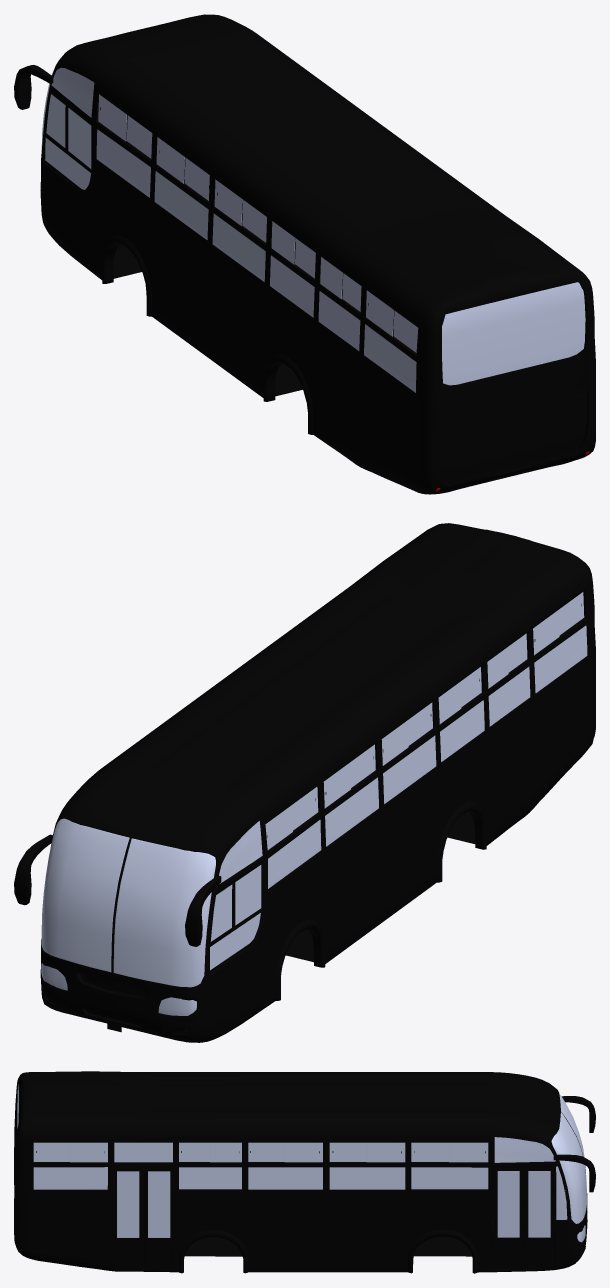
The model's file is Bus_Low.fbx.
3 renders of one model, top to bottom at view 1: azimuth 30°, elevation 25°; view 2: azimuth 150°, elevation 25°; view 3: azimuth 270°, elevation 25°, orthographic. The views are drawn at different scales.
Visible parts, largest first — view 1: Carrocería, PT, VL_6, VL_9, VL_3, VL_16, VL_12, VL_19, VL_2, FG_1, VC_2, VC_3 (+12 smaller); view 2: Carrocería, PB_2, PB_1, Retrovisor, VL_6, VL_9, VL_16, VL_3, VL_12, VL_19, VL_2, VC_2 (+11 smaller); view 3: Carrocería, PB_1, VL_3, VL_6, VL_9, VL_16, P_1, P_2, VP_1, VP_2, VP_3, VP_4 (+18 smaller).
Part boxes in pixels (<box>): Carrocería: <box>40,14,595,494</box>; PT: <box>442,282,585,385</box>; VL_6: <box>154,171,208,239</box>; VL_9: <box>212,213,265,281</box>; VL_3: <box>96,129,150,197</box>; VL_16: <box>364,324,416,392</box>; VL_12: <box>270,255,314,317</box>; VL_19: <box>318,291,360,350</box>; VL_2: <box>51,67,94,117</box>; FG_1: <box>442,388,587,483</box>; VC_2: <box>68,108,91,168</box>; VC_3: <box>45,138,90,189</box>; Carrocería: <box>40,523,595,1042</box>; PB_2: <box>113,838,215,987</box>; PB_1: <box>41,818,129,972</box>; Retrovisor: <box>14,834,221,946</box>; VL_6: <box>325,777,378,846</box>; VL_9: <box>383,735,436,803</box>; VL_16: <box>534,625,587,692</box>; VL_3: <box>268,820,321,888</box>; VL_12: <box>440,700,484,761</box>; VL_19: <box>488,666,530,726</box>; VL_2: <box>219,821,262,883</box>; VC_2: <box>235,865,261,925</box>; Carrocería: <box>14,1071,587,1273</box>; PB_1: <box>551,1112,586,1223</box>; VL_3: <box>411,1167,488,1189</box>; VL_6: <box>329,1167,405,1189</box>; VL_9: <box>248,1167,322,1189</box>; VL_16: <box>33,1167,107,1189</box>; P_1: <box>525,1166,553,1268</box>; P_2: <box>494,1167,522,1268</box>; VP_1: <box>528,1171,550,1237</box>; VP_2: <box>497,1171,519,1237</box>; VP_3: <box>148,1171,170,1237</box>; VP_4: <box>117,1171,139,1237</box>.
Size of the model in its own units: 5 by 5.56 by 19.24.
